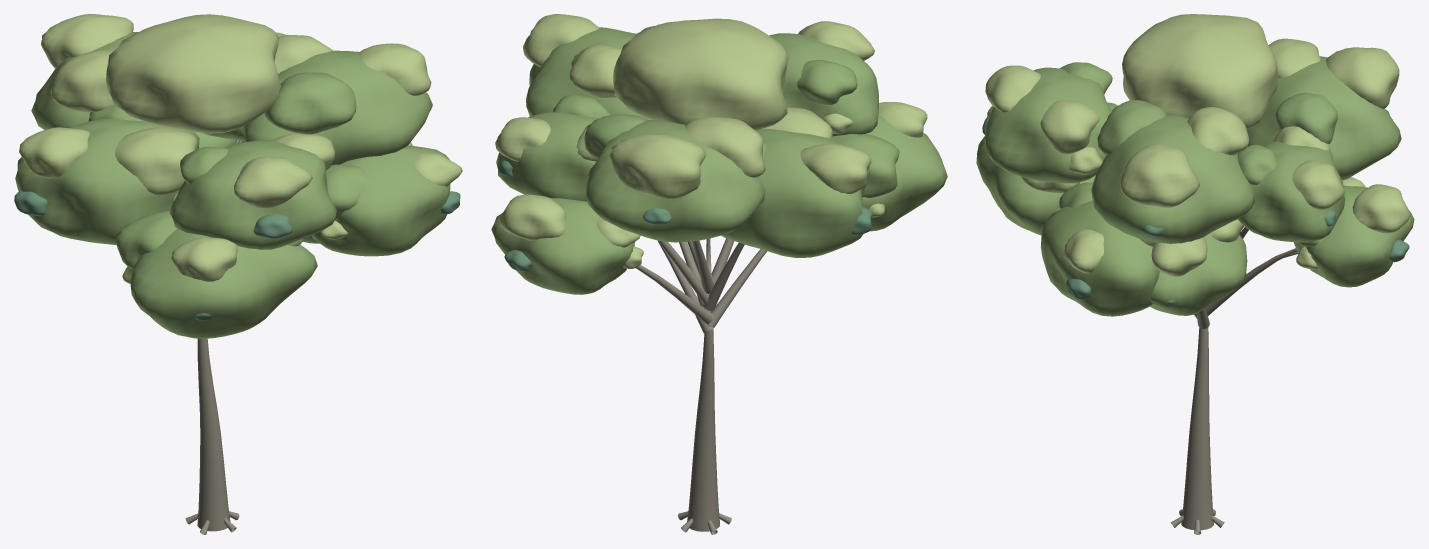
Rendered from diotree10.glb.
3 views of the same model, side by side, from view 1: azimuth 30°, elevation 25°; view 2: azimuth 150°, elevation 25°; view 3: azimuth 270°, elevation 25° (orthographic).
Parts seen in each view (by area): view 1: DioTree10_DioLeaf, DioTree10_DioLeafLight, DioTree10_Trunk, DioTree10_DioLeafShade; view 2: DioTree10_DioLeaf, DioTree10_DioLeafLight, DioTree10_Trunk, DioTree10_DioLeafShade; view 3: DioTree10_DioLeaf, DioTree10_DioLeafLight, DioTree10_Trunk, DioTree10_DioLeafShade.
Boxes of the visible parts, x1=… form: DioTree10_DioLeaf: x1=15, y1=32, x2=450, y2=338; DioTree10_DioLeafLight: x1=19, y1=14, x2=462, y2=283; DioTree10_Trunk: x1=185, y1=139, x2=241, y2=534; DioTree10_DioLeafShade: x1=14, y1=106, x2=460, y2=321; DioTree10_DioLeaf: x1=491, y1=26, x2=947, y2=294; DioTree10_DioLeafLight: x1=495, y1=14, x2=927, y2=268; DioTree10_Trunk: x1=635, y1=238, x2=767, y2=534; DioTree10_DioLeafShade: x1=498, y1=160, x2=872, y2=271; DioTree10_DioLeaf: x1=976, y1=56, x2=1414, y2=316; DioTree10_DioLeafLight: x1=985, y1=14, x2=1410, y2=276; DioTree10_Trunk: x1=1170, y1=227, x2=1298, y2=534; DioTree10_DioLeafShade: x1=982, y1=110, x2=1409, y2=305.
Size of the model in its own units: 10.74 by 13.43 by 10.81.
